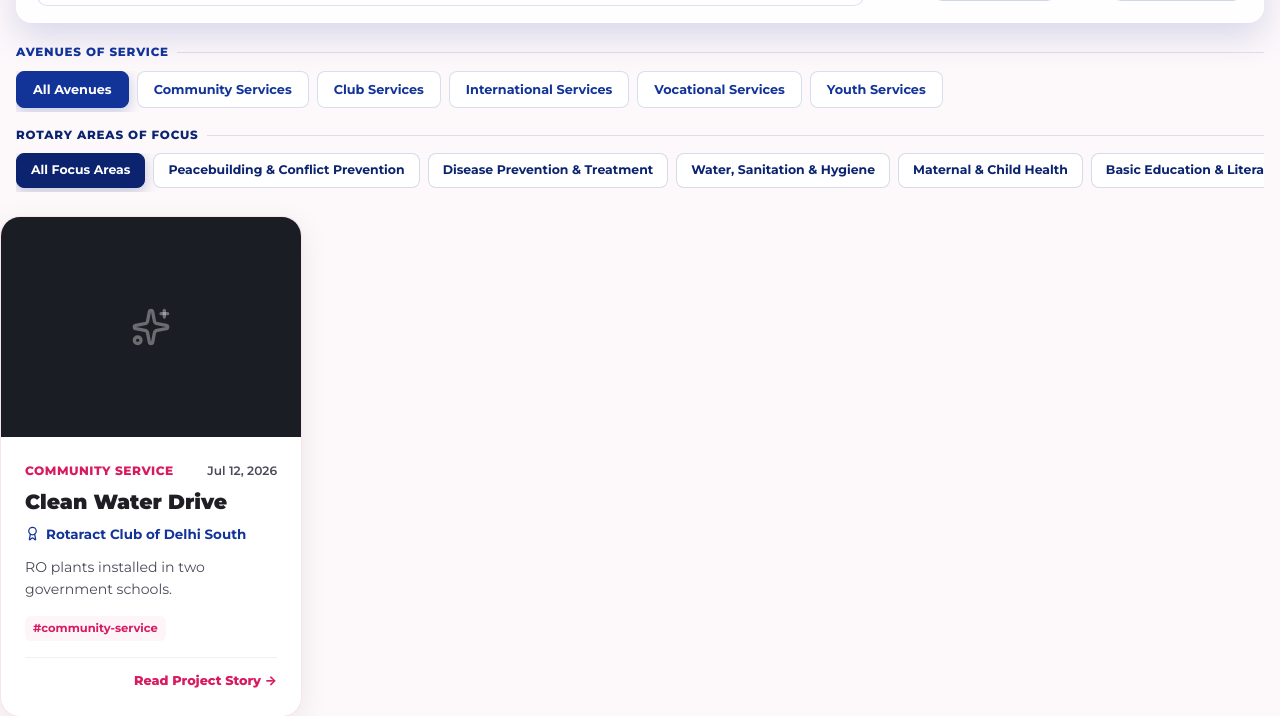
it: ClubInitiativesList › renders no impact reach in the modal when the detail endpoint has no beneficiaries
The image size is (1280, 716).
(page scrolled)
Click the heading "Clean Water Drive".
click(126, 501)  # box [25,489,227,514]
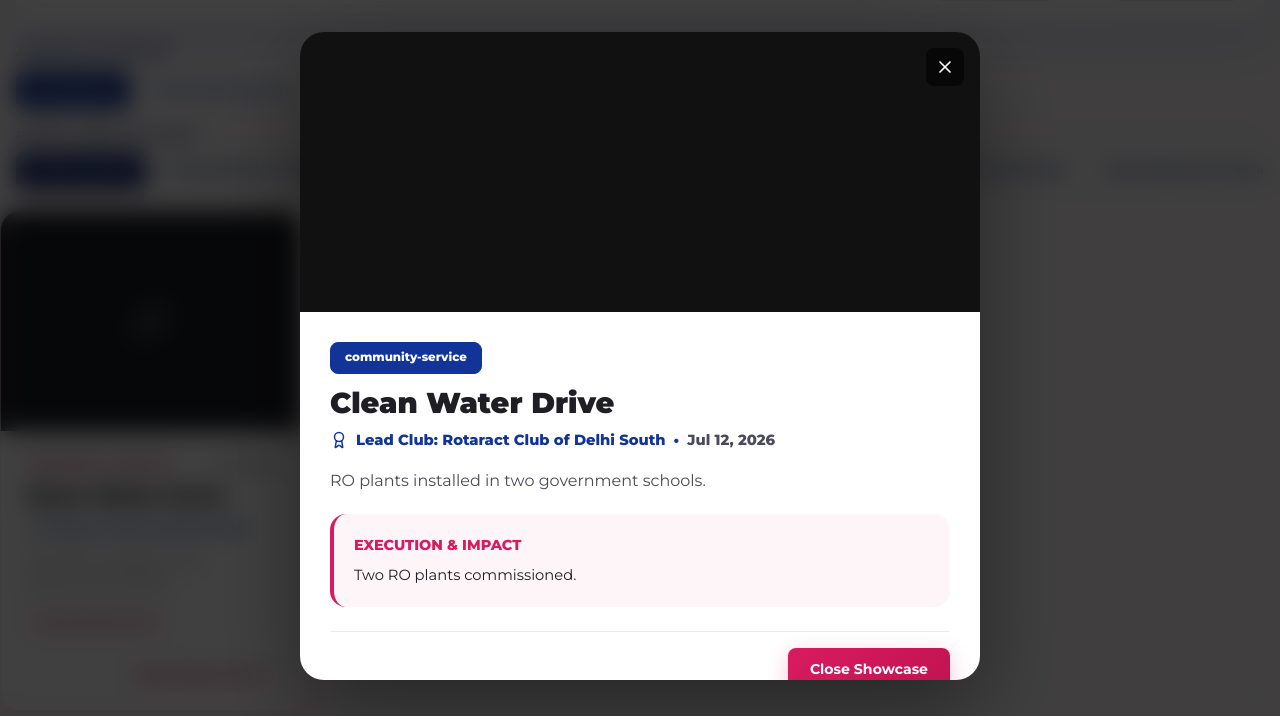
Check: the text "Two RO plants commissioned." is shown, box [354,566,576,584]
